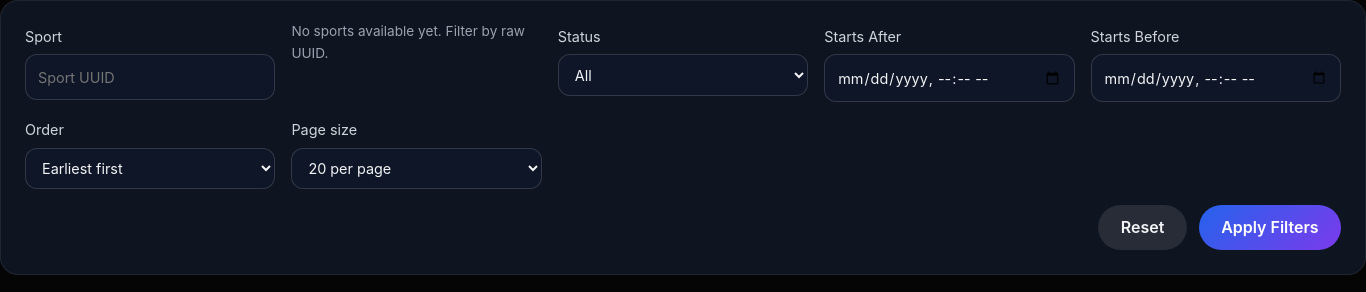
Test case: EventFilters › resets the form
Type "something" into the field labelled "Sport" at {"x": 150, "y": 77}, box 25,54 -> 275,100
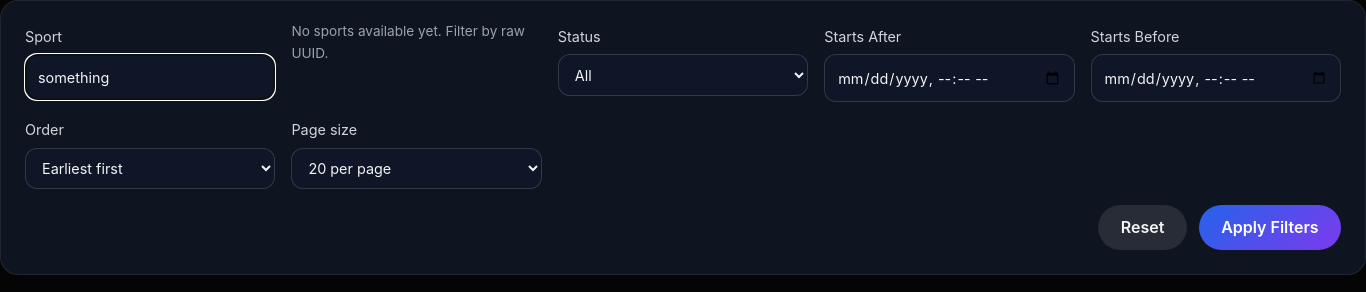
Click the button "Reset" at {"x": 1143, "y": 228}, box 1098,206 -> 1187,250
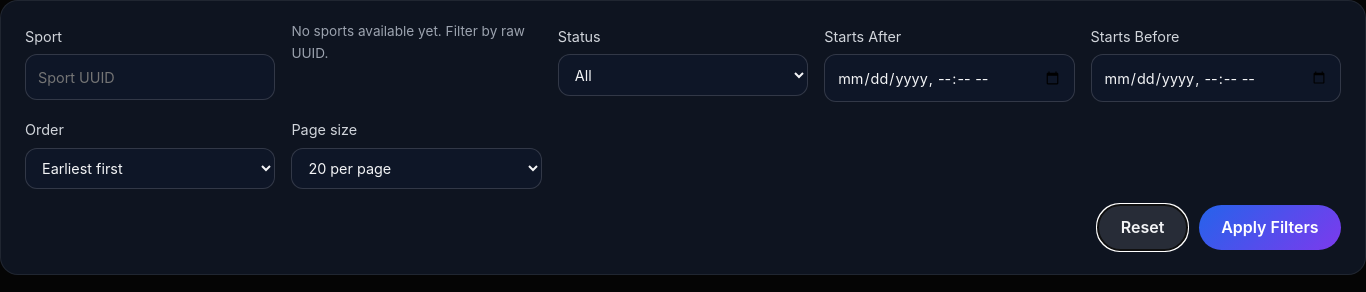
Result: the field labelled "Sport" is empty at 25,54 -> 275,100
